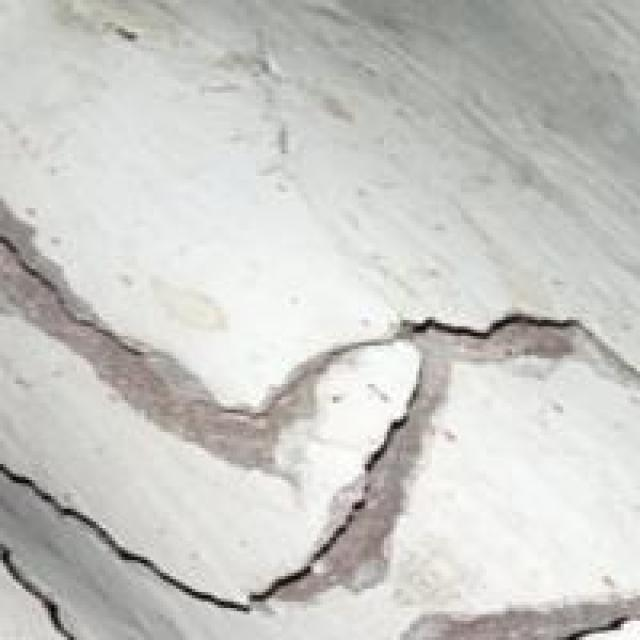SurfaceCrack: (0, 440, 248, 640), (0, 198, 188, 374), (264, 402, 418, 592), (362, 304, 622, 358), (540, 606, 640, 640)
